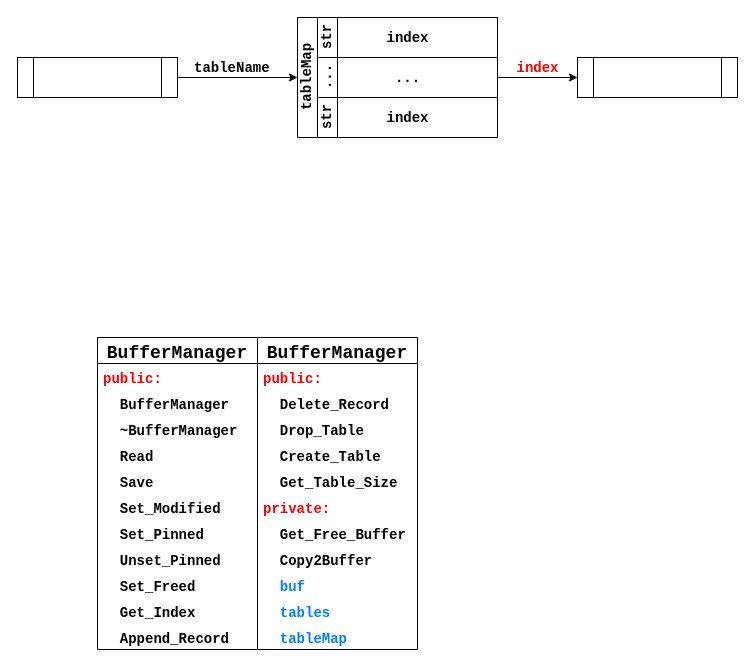
This 755x670 diagram has some shape labels left out. Each missing label, with the centre of its shape:
f( size_t ): point 657,77
f(std::string): point 97,77
